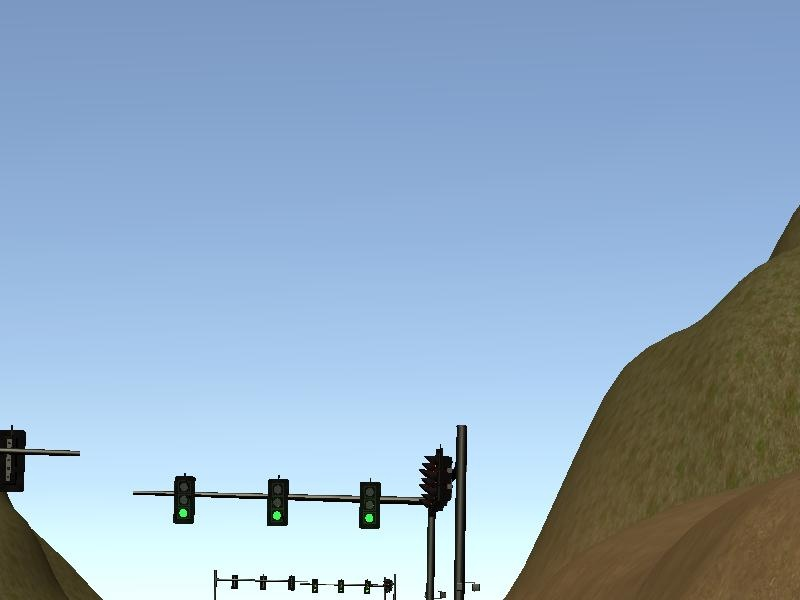traffic_light_green: (154, 473, 427, 529)
